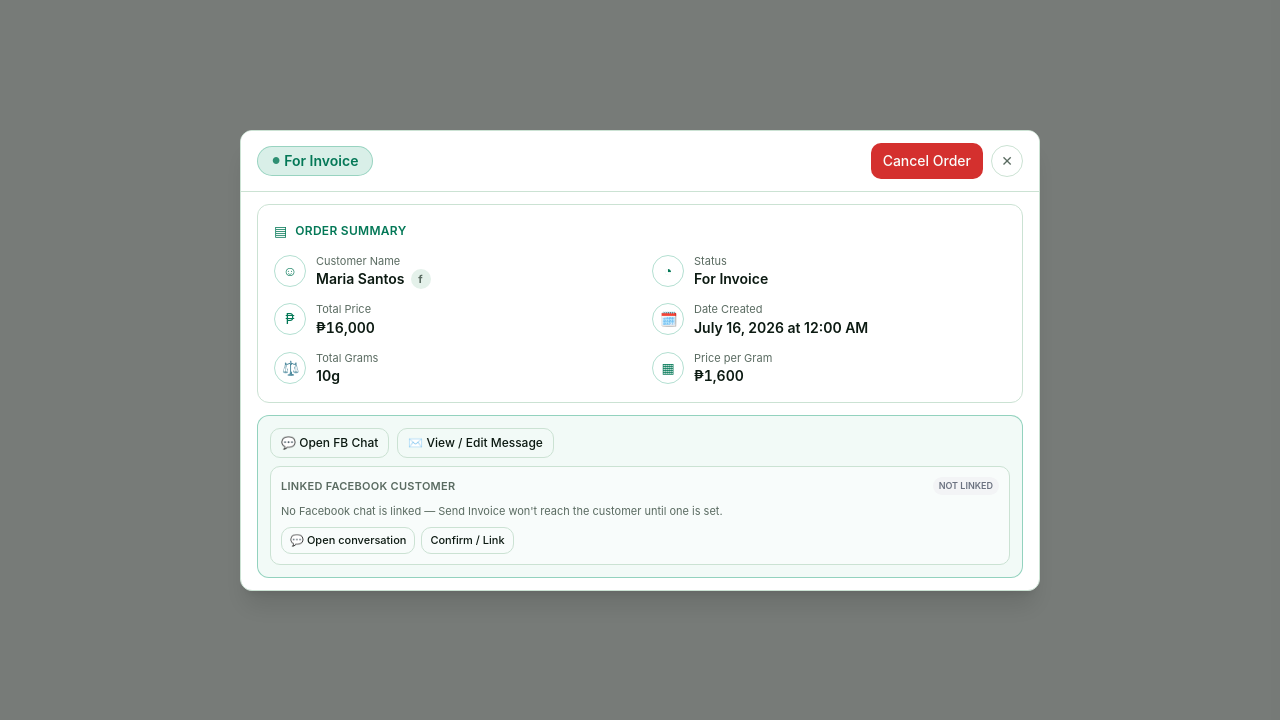
Test: OrderDetailsModal › Open FB Chat reports when no chat link is on file (and never sends anything)
Click the button with test id "order-open-fb-chat" at (330, 443), box [270,428,389,458]
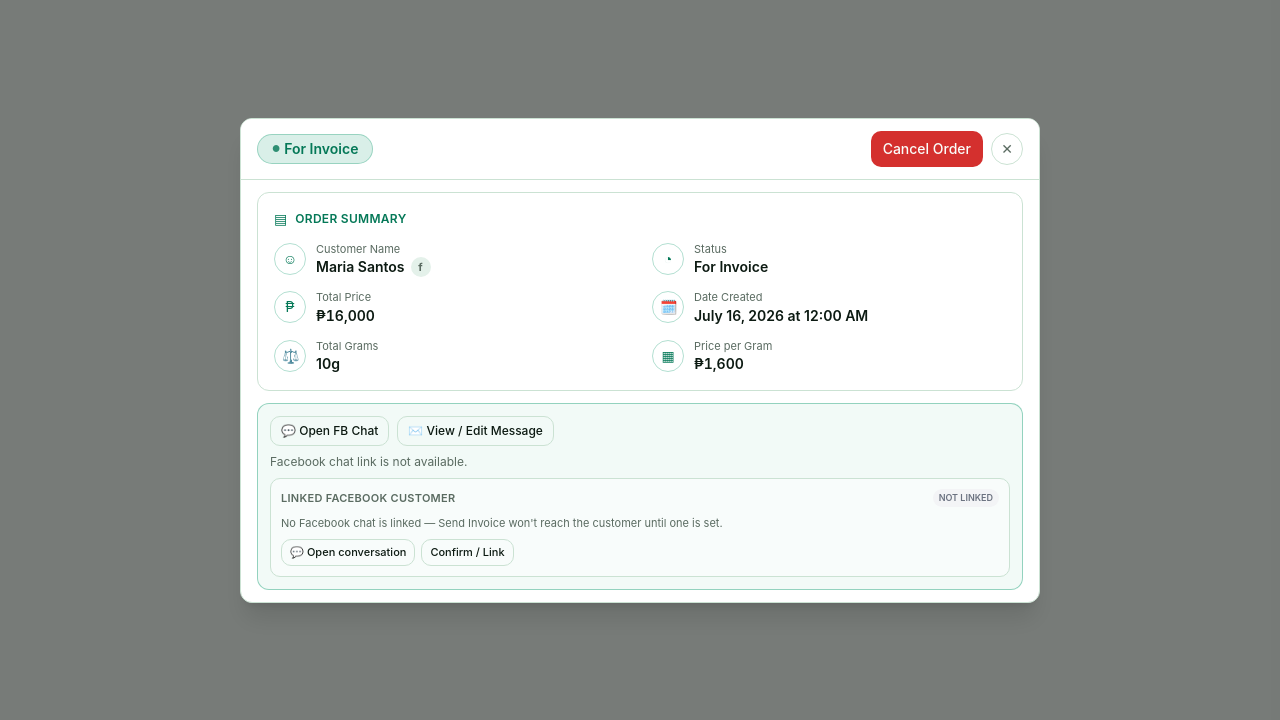
Expected: the text with test id "order-fb-notice" reads "Facebook chat link is not available.", [270,454,467,469]
